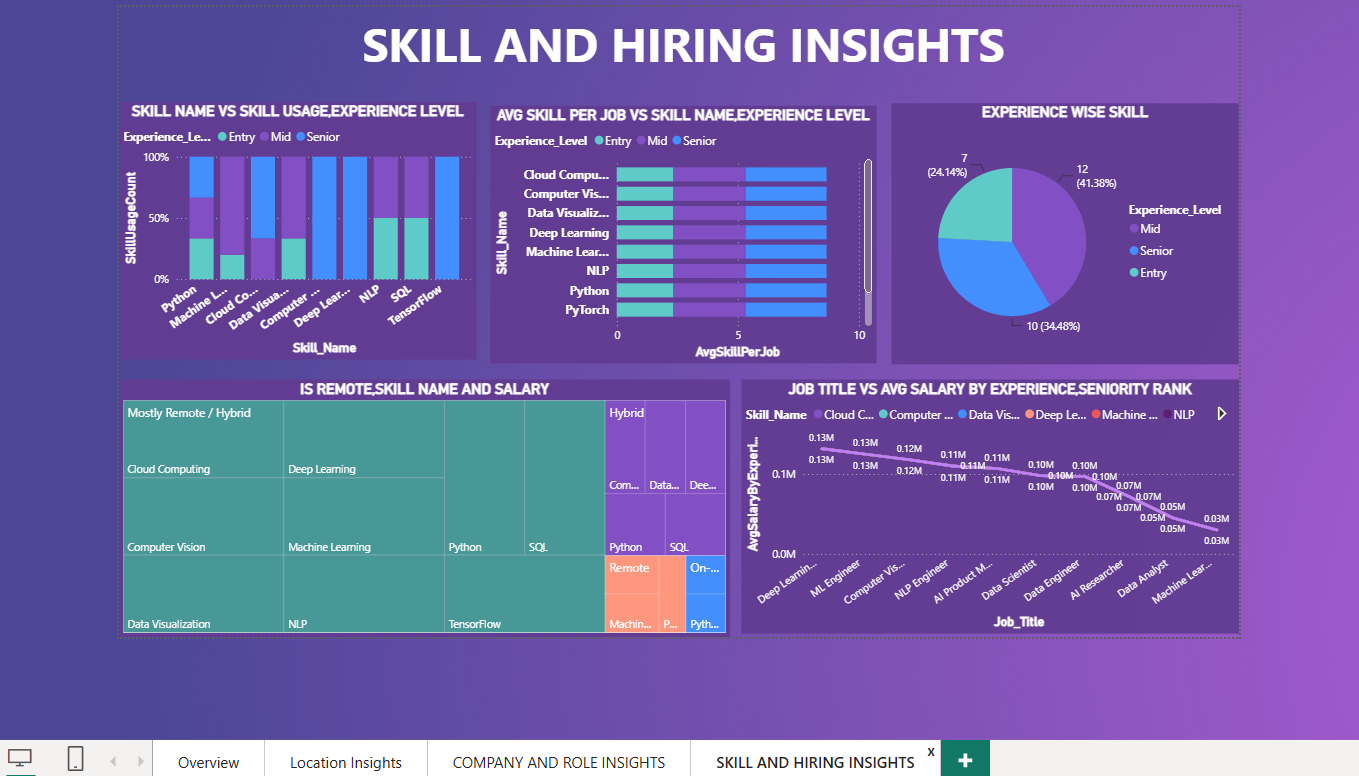

This screenshot's page, from the dashboard's own definition file:
{"tool":"powerbi","page":{"name":"SKILL AND HIRING INSIGHTS","canvas":[1280,720],"ordinal":3},"visuals":[{"type":"textbox","box":[10,0,1270,108.6],"z":0},{"type":"hundredPercentStackedColumnChart","title":"SKILL NAME VS SKILL USAGE,EXPERIENCE LEVEL","fields":{"Category":["Dim_Skills.Skill_Name"],"Y":["Dim_Skills.SkillUsageCount"],"Series":["Fact_Jobs.Experience_Level"]},"box":[0,108.6,408.6,294.3],"z":1000},{"type":"treemap","title":"IS REMOTE,SKILL NAME AND SALARY","fields":{"Group":["Fact_Jobs.IsRemote"],"Details":["Dim_Skills.Skill_Name"],"Values":["Sum(Fact_Jobs.Salary_USD)"]},"box":[0,425.7,698.6,294.3],"z":2000},{"type":"lineChart","title":"JOB TITLE VS AVG SALARY BY EXPERIENCE,SENIORITY RANK","fields":{"Category":["Fact_Jobs.Job_Title"],"Series":["Dim_Skills.Skill_Name"],"Y":["Fact_Jobs.AvgSalaryByExperience"]},"box":[711.4,425.7,568.6,290],"z":3000},{"type":"barChart","title":"AVG SKILL PER JOB VS SKILL NAME,EXPERIENCE LEVEL","fields":{"Category":["Dim_Skills.Skill_Name"],"Series":["Fact_Jobs.Experience_Level"],"Y":["Fact_Job_Skills.AvgSkillPerJob"]},"box":[424.3,112.9,441.4,294.3],"z":4000},{"type":"pieChart","title":"EXPERIENCE WISE SKILL ","fields":{"Category":["Fact_Jobs.Experience_Level"],"Y":["Dim_Skills.SkillUsageCount"]},"box":[882.9,110,397.1,298.6],"z":5000}]}

Visuals, with their boxes on the page's 1280x720 design canvas (x1, y1, x2, y2). These are canvas units, not pixel positions in the 1359x776 screenshot, which may show the page scaled, cropped or inside an application window:
textbox: {"x1": 10, "y1": 0, "x2": 1280, "y2": 109}
"SKILL NAME VS SKILL USAGE,EXPERIENCE LEVEL" hundredPercentStackedColumnChart: {"x1": 0, "y1": 109, "x2": 409, "y2": 403}
"IS REMOTE,SKILL NAME AND SALARY" treemap: {"x1": 0, "y1": 426, "x2": 699, "y2": 720}
"JOB TITLE VS AVG SALARY BY EXPERIENCE,SENIORITY RANK" lineChart: {"x1": 711, "y1": 426, "x2": 1280, "y2": 716}
"AVG SKILL PER JOB VS SKILL NAME,EXPERIENCE LEVEL" barChart: {"x1": 424, "y1": 113, "x2": 866, "y2": 407}
"EXPERIENCE WISE SKILL " pieChart: {"x1": 883, "y1": 110, "x2": 1280, "y2": 409}
